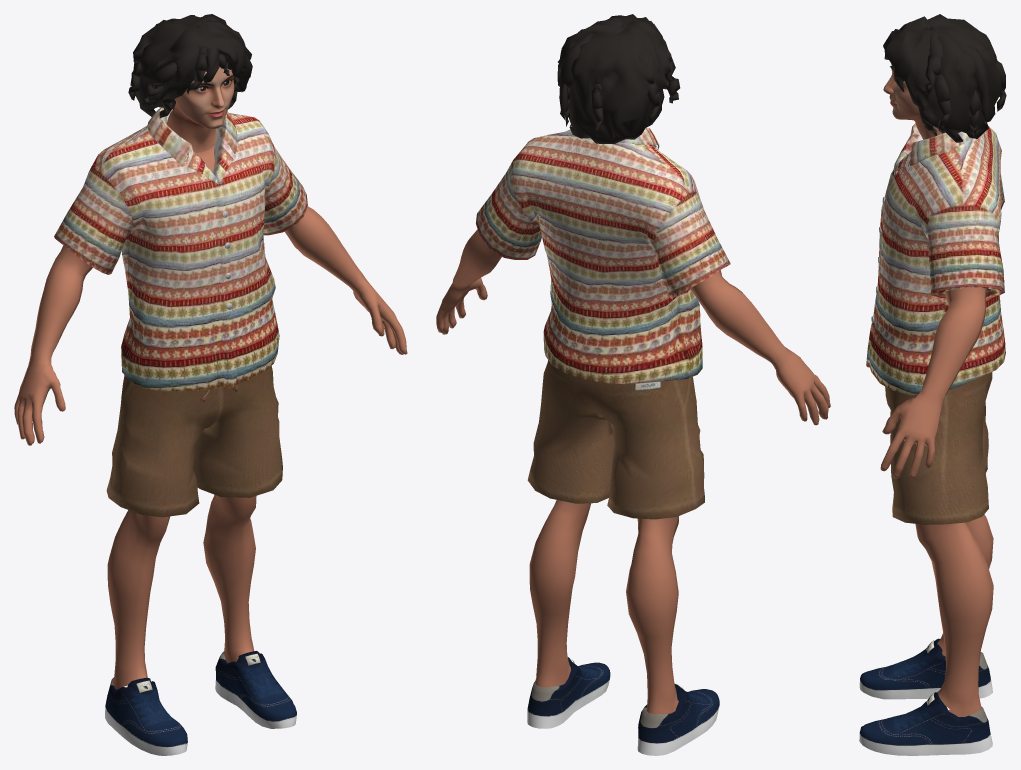
The model's file is mike.glb.
3 views of the same model, side by side, from view 1: azimuth 30°, elevation 25°; view 2: azimuth 150°, elevation 25°; view 3: azimuth 270°, elevation 25° (orthographic).
Parts seen in each view (by area): view 1: Object_21, Object_15, Object_17, Object_23, Object_19, Object_11; view 2: Object_21, Object_15, Object_17, Object_23, Object_19; view 3: Object_21, Object_15, Object_23, Object_17, Object_19, Object_11.
Boxes of the visible parts, x1,y1,x2,y2 form: Object_21: [54, 107, 307, 391]; Object_15: [14, 145, 407, 689]; Object_17: [106, 366, 282, 517]; Object_23: [128, 14, 252, 118]; Object_19: [105, 651, 296, 755]; Object_11: [167, 67, 234, 152]; Object_21: [476, 124, 730, 384]; Object_15: [436, 229, 830, 714]; Object_17: [527, 360, 704, 519]; Object_23: [557, 14, 680, 143]; Object_19: [527, 657, 719, 755]; Object_21: [866, 123, 1005, 394]; Object_15: [880, 287, 993, 716]; Object_23: [883, 14, 1006, 142]; Object_17: [885, 372, 992, 524]; Object_19: [859, 638, 992, 755]; Object_11: [883, 68, 941, 139].
Size of the model in its own units: 1.06 by 1.86 by 0.357.
8 materials, 8 textured.
